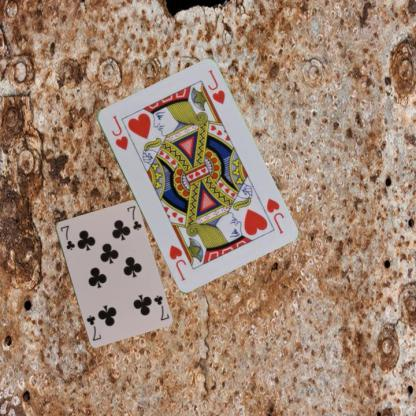7c: (57, 222, 76, 252), (151, 292, 170, 322)
Jh: (263, 195, 285, 235), (108, 112, 130, 151)
